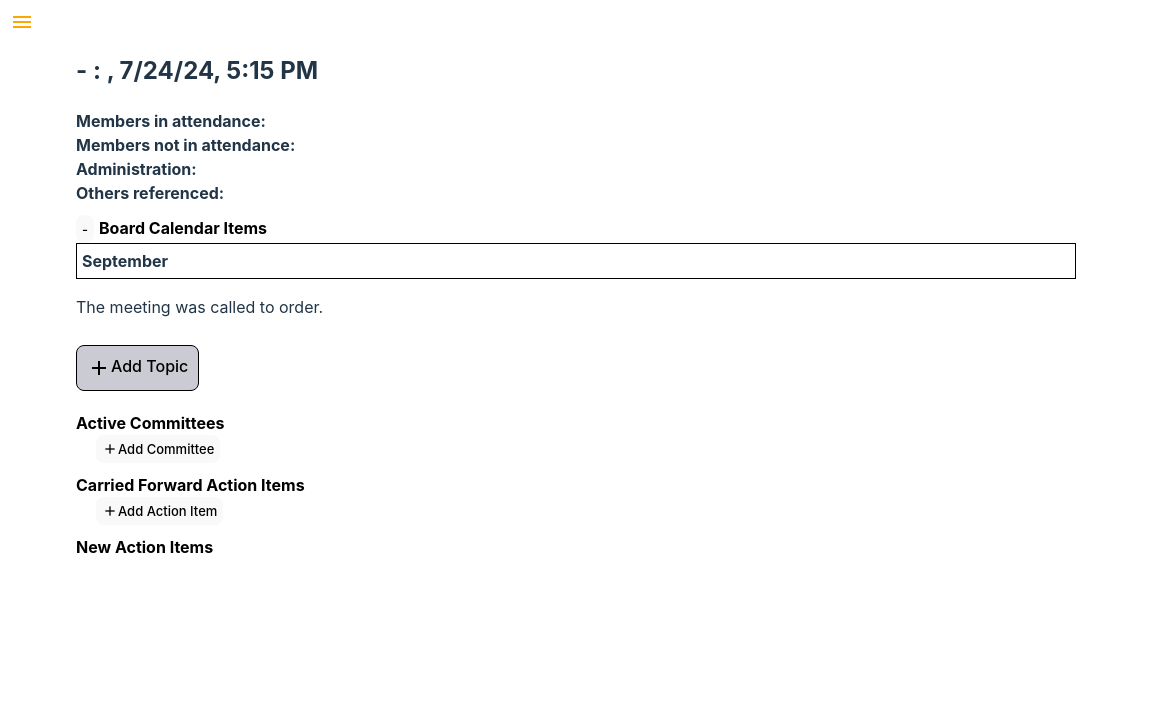
Test: calendar › allows collapsing the calendar
Expected: the heading "- Board Calendar Items" is shown, [76, 215, 267, 243]
Expected: the text "September" is shown, [82, 251, 168, 271]
What coordinates should you click on to do the following:
click the button named "Collapse calendar"
I would click on:
 (85, 229)
Its box is [76, 215, 94, 243].
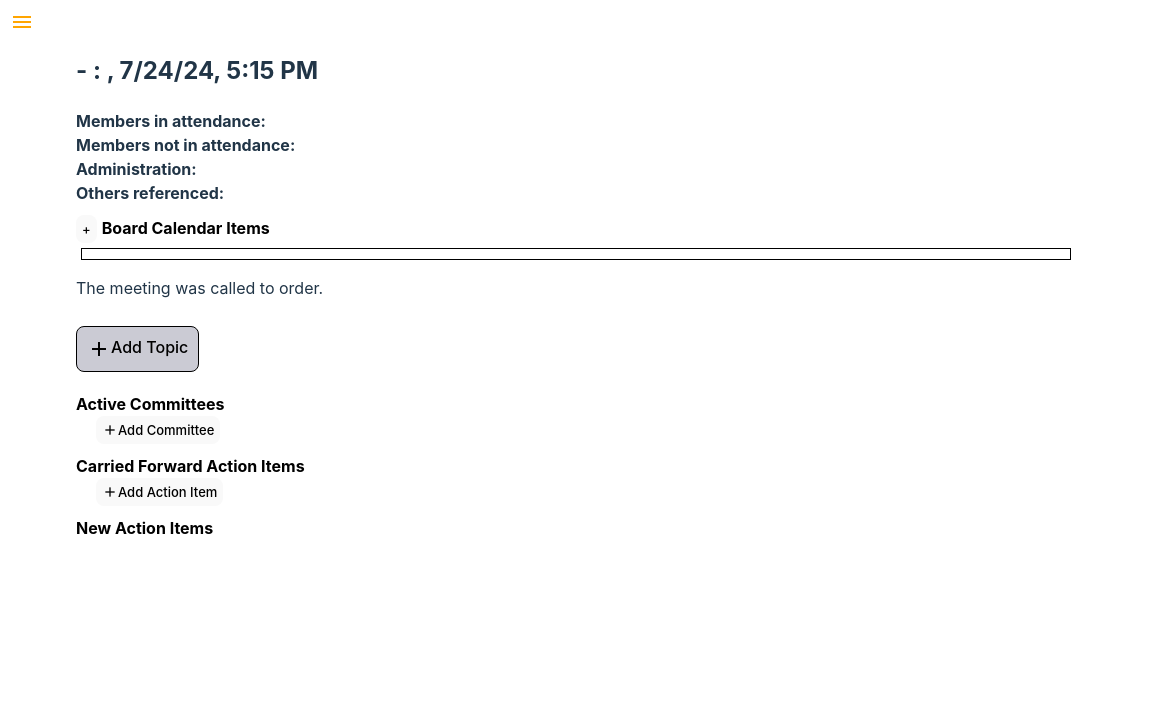
Expected: the heading "+ Board Calendar Items" is shown, [76, 215, 270, 243]
Now the text "September" is gone
